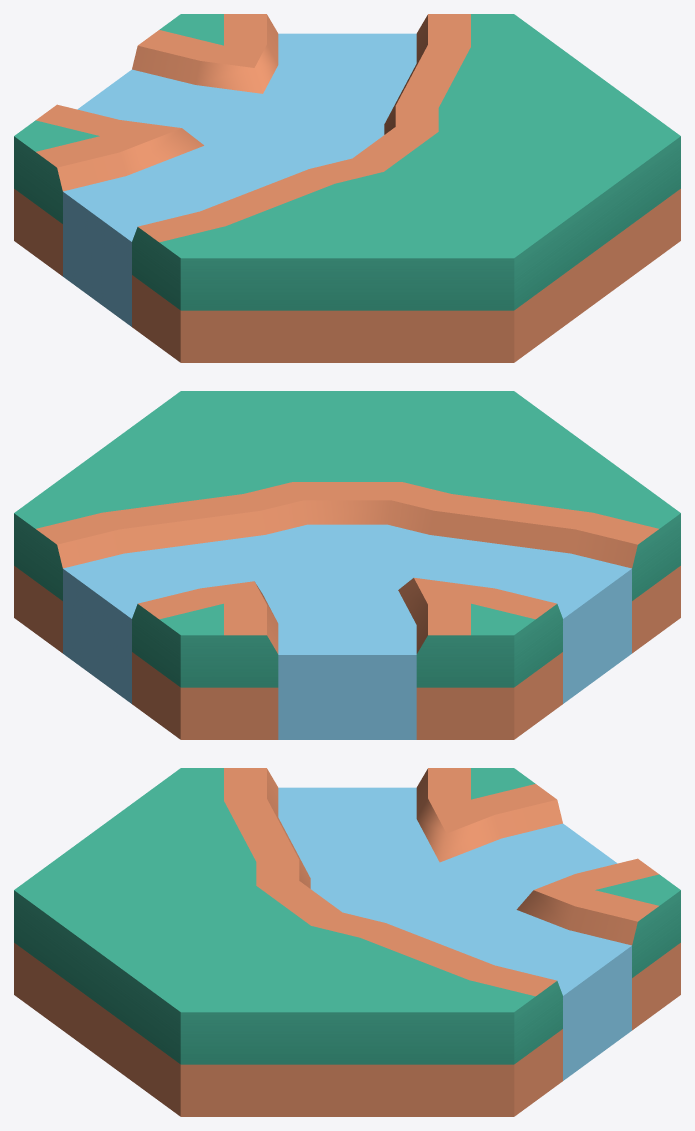
The model's file is river-intersectionA.fbx.
3 renders of one model, top to bottom at view 1: azimuth 30°, elevation 25°; view 2: azimuth 150°, elevation 25°; view 3: azimuth 270°, elevation 25°, orthographic.
Parts seen in each view (by area): view 1: river_intersectionA; view 2: river_intersectionA; view 3: river_intersectionA.
Part boxes in pixels (left/top/right/bottom): river_intersectionA: left=14, top=14, right=680, bottom=362; river_intersectionA: left=14, top=391, right=680, bottom=739; river_intersectionA: left=14, top=768, right=680, bottom=1116.
Bounding box in the file's own units: 100 × 20 × 115.
1 material, 1 textured.
